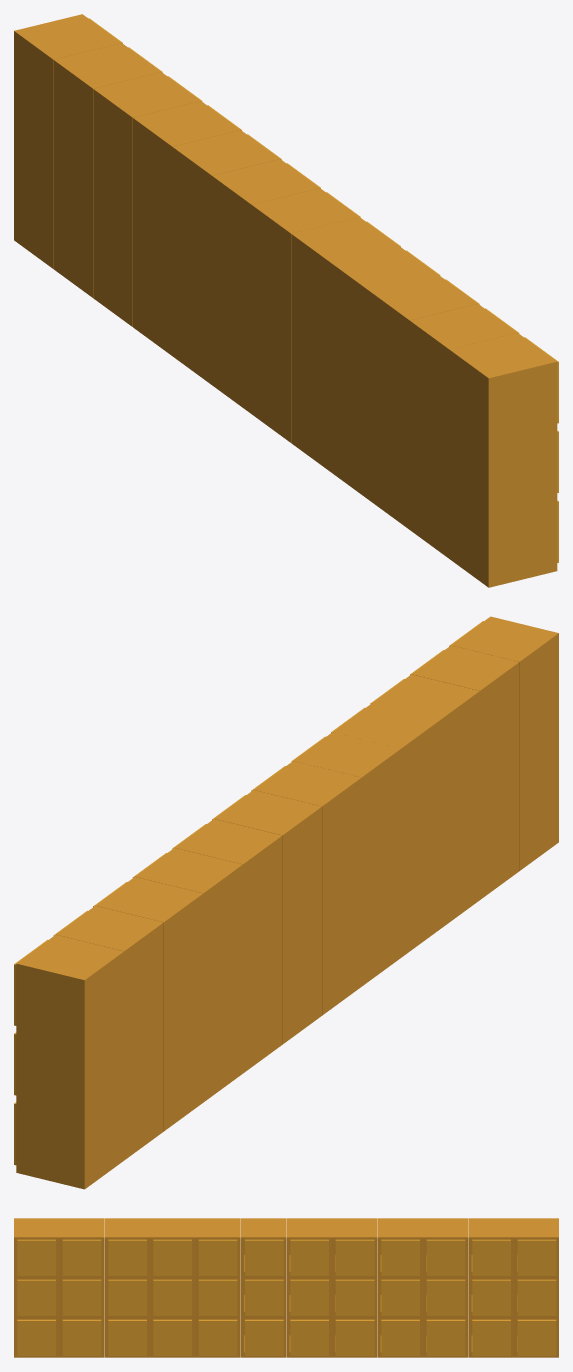
Rendered from lockers2.fbx.
The picture shows the model from 3 angles, top to bottom: view 1: azimuth 30°, elevation 25°; view 2: azimuth 150°, elevation 25°; view 3: azimuth 270°, elevation 25°; orthographic projection. The views are drawn at different scales.
Parts seen in each view (by area): view 1: Cube.048; view 2: Cube.048; view 3: Cube.048, Cube.061, Cube.037, Cube.015, Cube.069, Cube.065, Cube.055, Cube.049, Cube.045, Cube.041, Cube.031, Cube.025 (+25 smaller).
Boxes of the visible parts, x1,y1,x2,y2 form: Cube.048: (14, 14, 557, 587); Cube.048: (16, 616, 558, 1189); Cube.048: (14, 1218, 558, 1357); Cube.061: (335, 1239, 374, 1275); Cube.037: (335, 1279, 374, 1315); Cube.015: (335, 1319, 374, 1355); Cube.069: (517, 1239, 556, 1275); Cube.065: (426, 1239, 465, 1275); Cube.055: (198, 1239, 237, 1275); Cube.049: (62, 1239, 101, 1275); Cube.045: (517, 1279, 556, 1315); Cube.041: (426, 1279, 465, 1315); Cube.031: (198, 1279, 237, 1315); Cube.025: (62, 1279, 101, 1315).
Size of the model in its own units: 339 by 928 by 3812.
